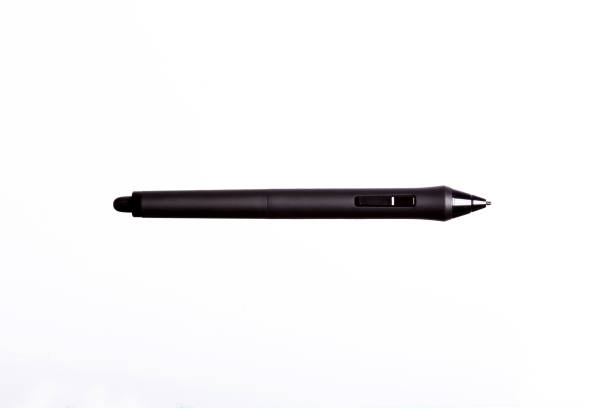pen: (99, 177, 503, 251)
